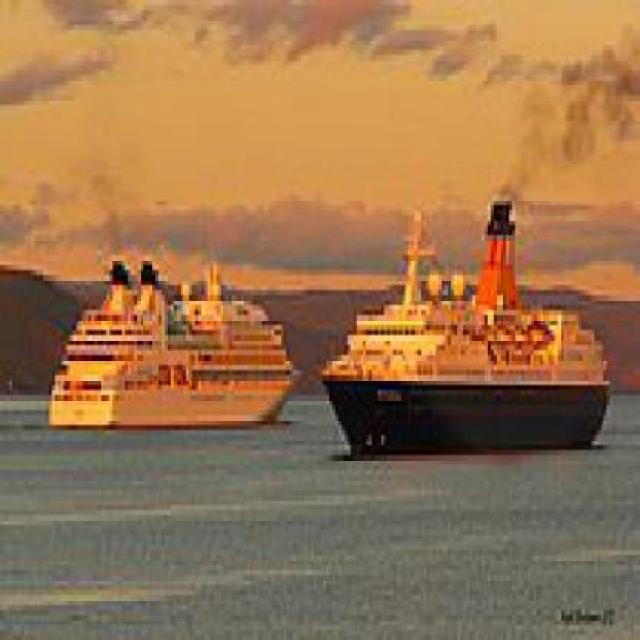cruise: (315, 166, 626, 477), (31, 236, 303, 447)
